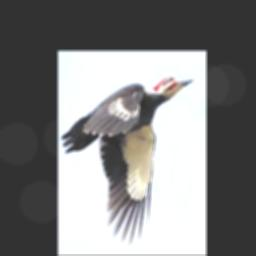Woodpecker: (60, 75, 193, 246)
